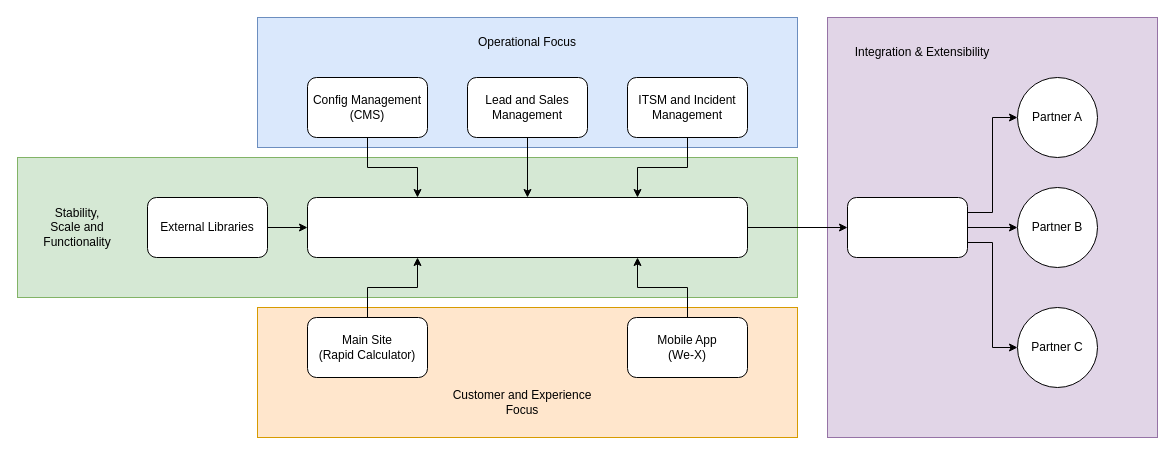
Image size: 1175x455. Some labels were removed from this diagram. Here are the shapes that lost their labels. From the top down, the box of each, then its label:
(306, 196, 748, 258): Cloud-based Digital Platform
(846, 196, 968, 258): B2B Connectors
